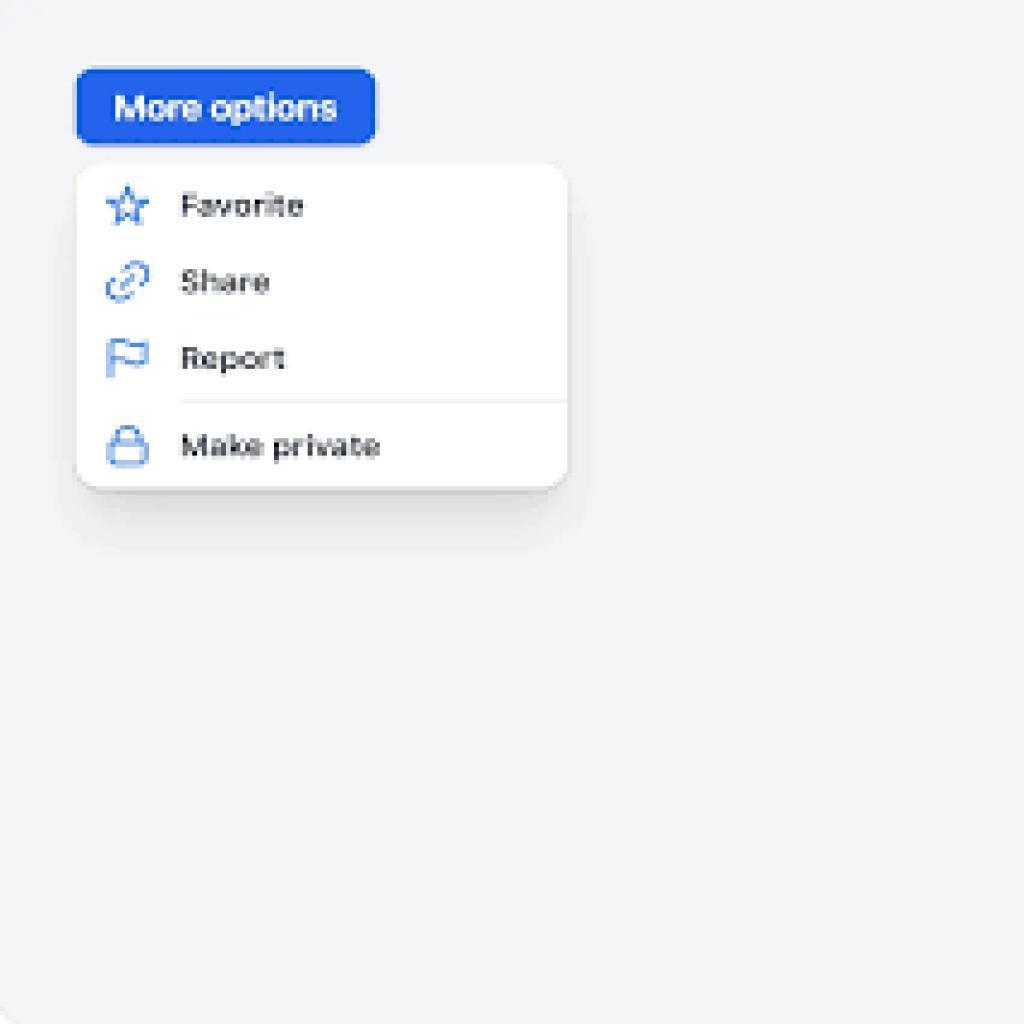button: (76, 68, 381, 149)
icon: (104, 335, 153, 385), (105, 183, 153, 231), (104, 258, 153, 304), (106, 423, 153, 470)
